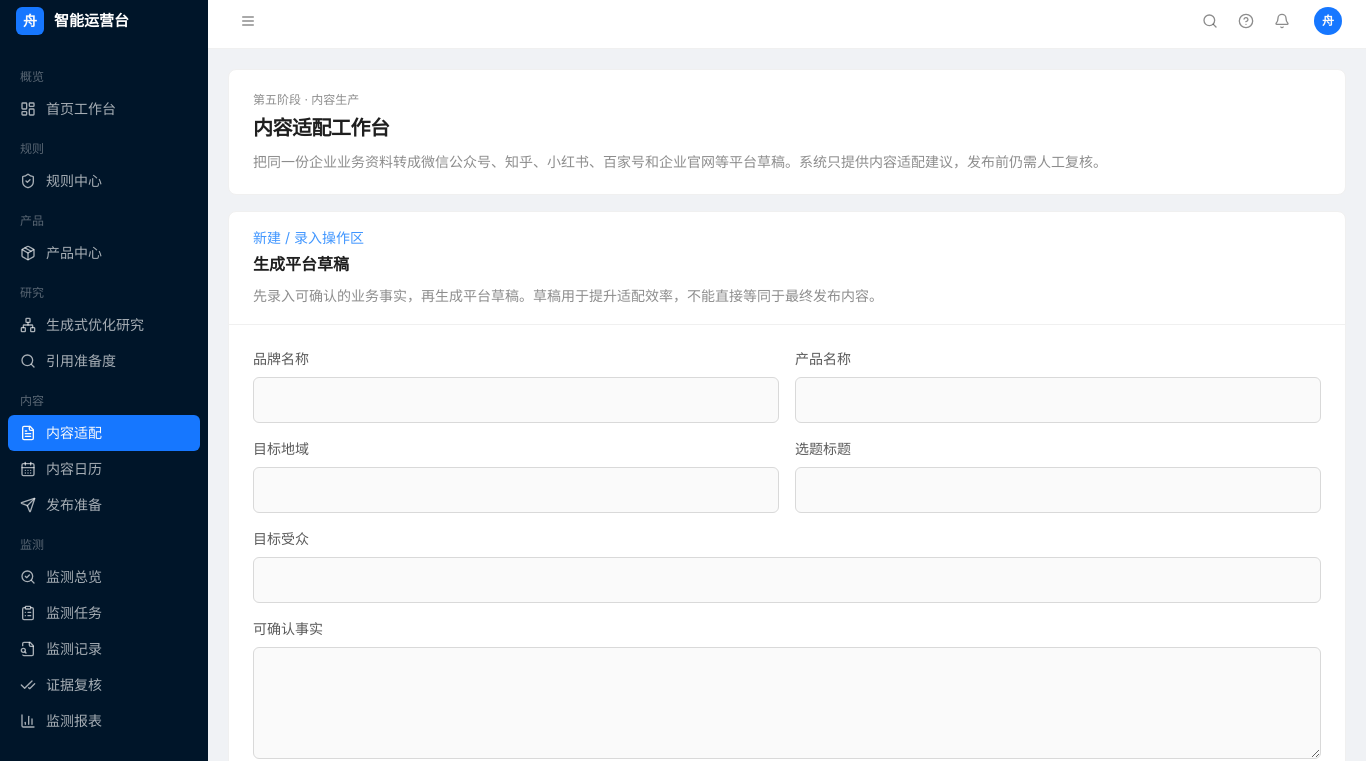
Test: P5 内容适配页面 › 支持复制全部平台草稿
The image size is (1366, 761).
Step 1. Type "武汉微艺达智能科技有限公司" into the field labelled "品牌名称" → (516,400), box [253, 377, 779, 423]
Step 2. Type "智能沙盘" into the field labelled "产品名称" → (1058,400), box [795, 377, 1321, 423]
Step 3. Type "武汉" into the field labelled "目标地域" → (516,490), box [253, 467, 779, 513]
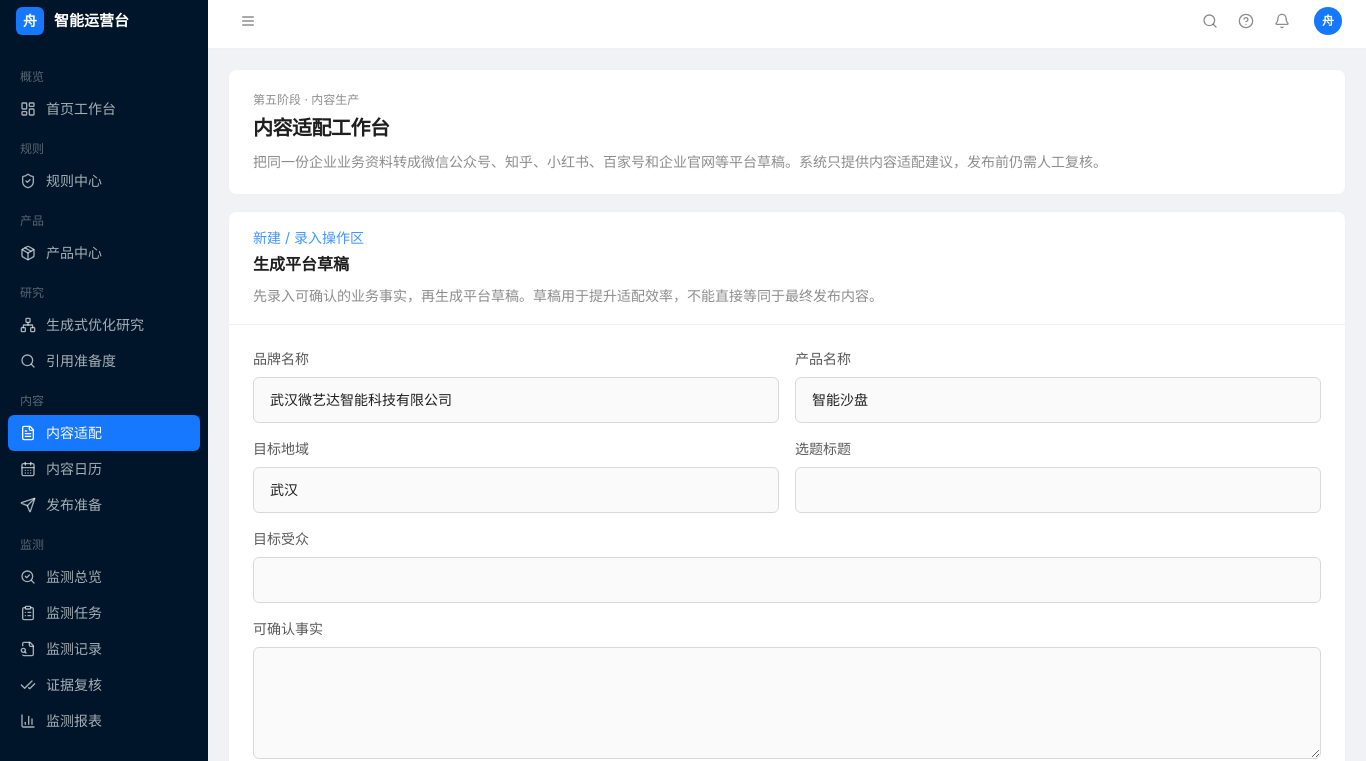
Step 4. Type "武汉智能沙盘厂家怎么选？" into the field labelled "选题标题" → (1058,490), box [795, 467, 1321, 513]
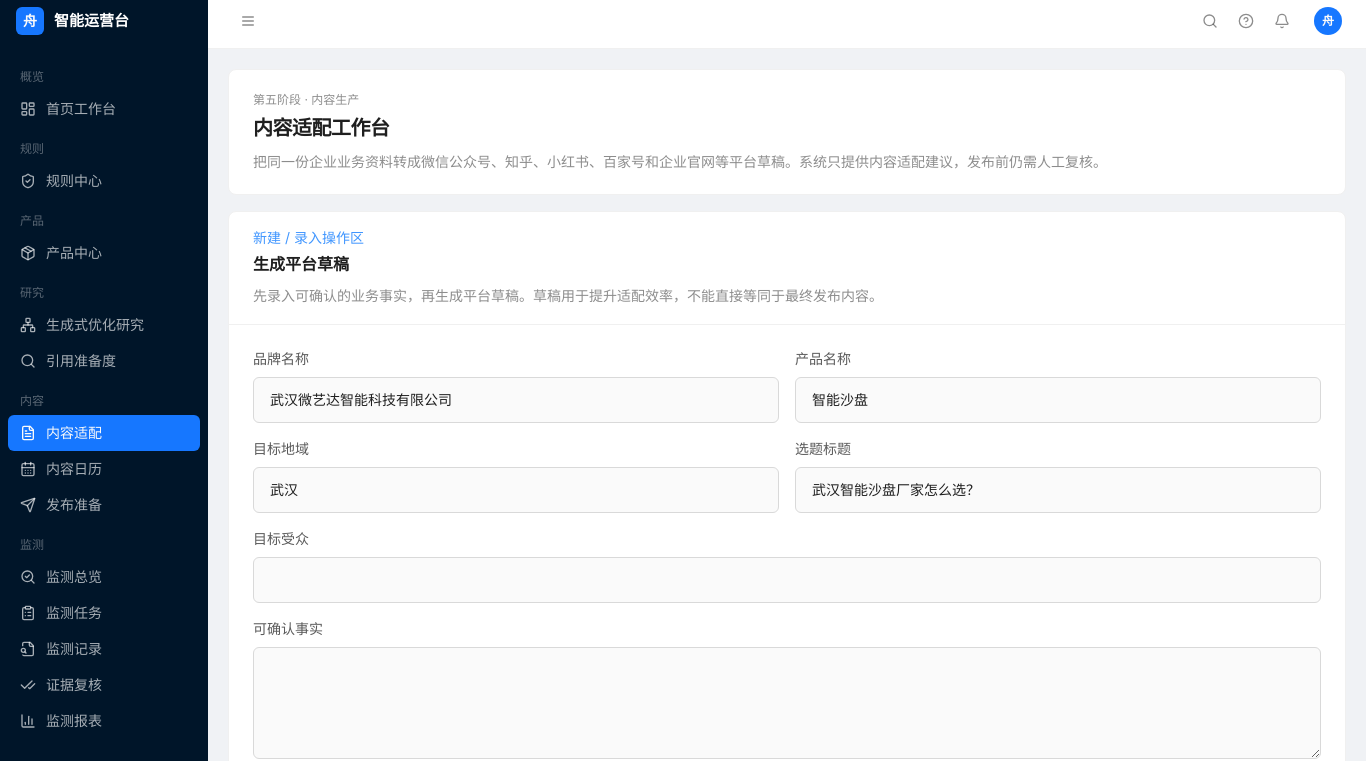
Step 5. Type "企业展厅和智慧园区项目负责人" into the field labelled "目标受众" → (787,580), box [253, 557, 1321, 603]
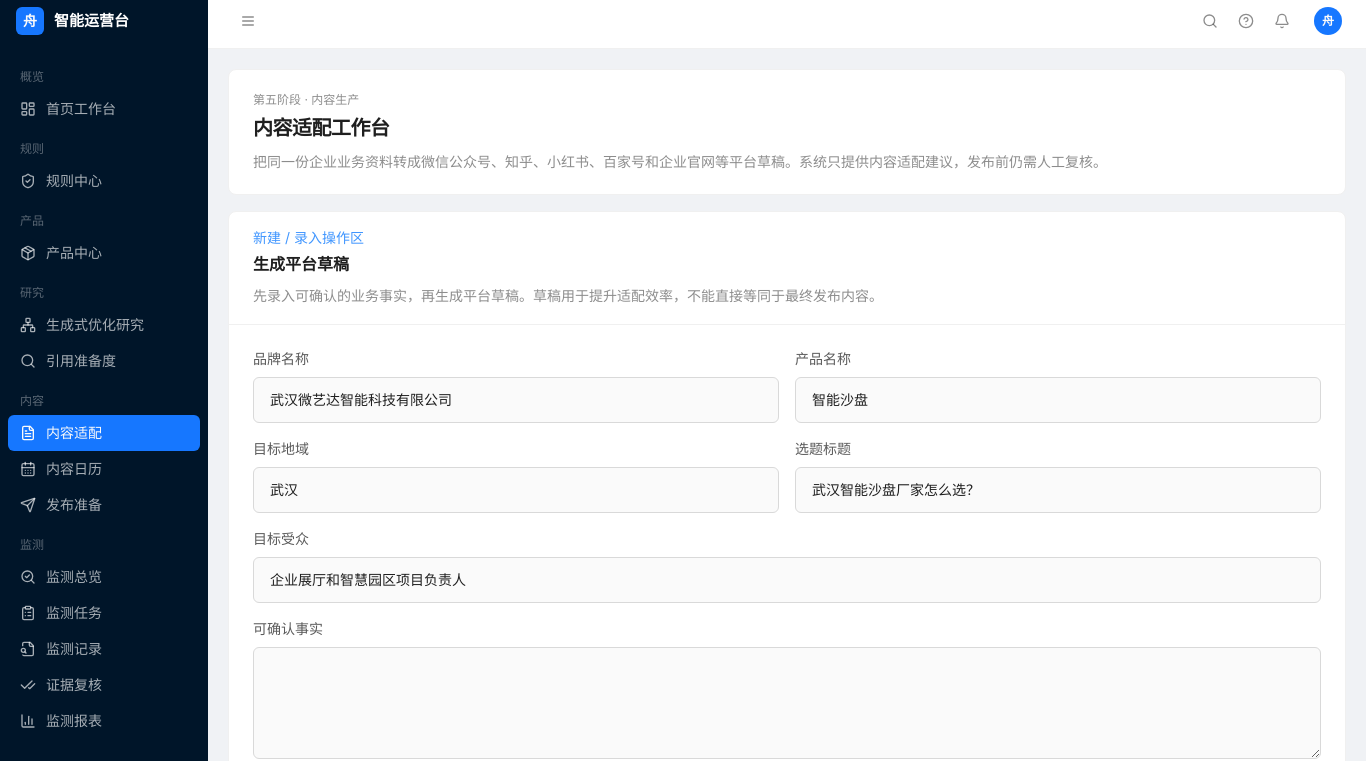
Step 6. Type "支持实体模型、灯光控制、触摸屏联动和数字孪生展示。" into the text box labelled "可确认事实" → (787,703), box [253, 647, 1321, 759]
(page scrolled)
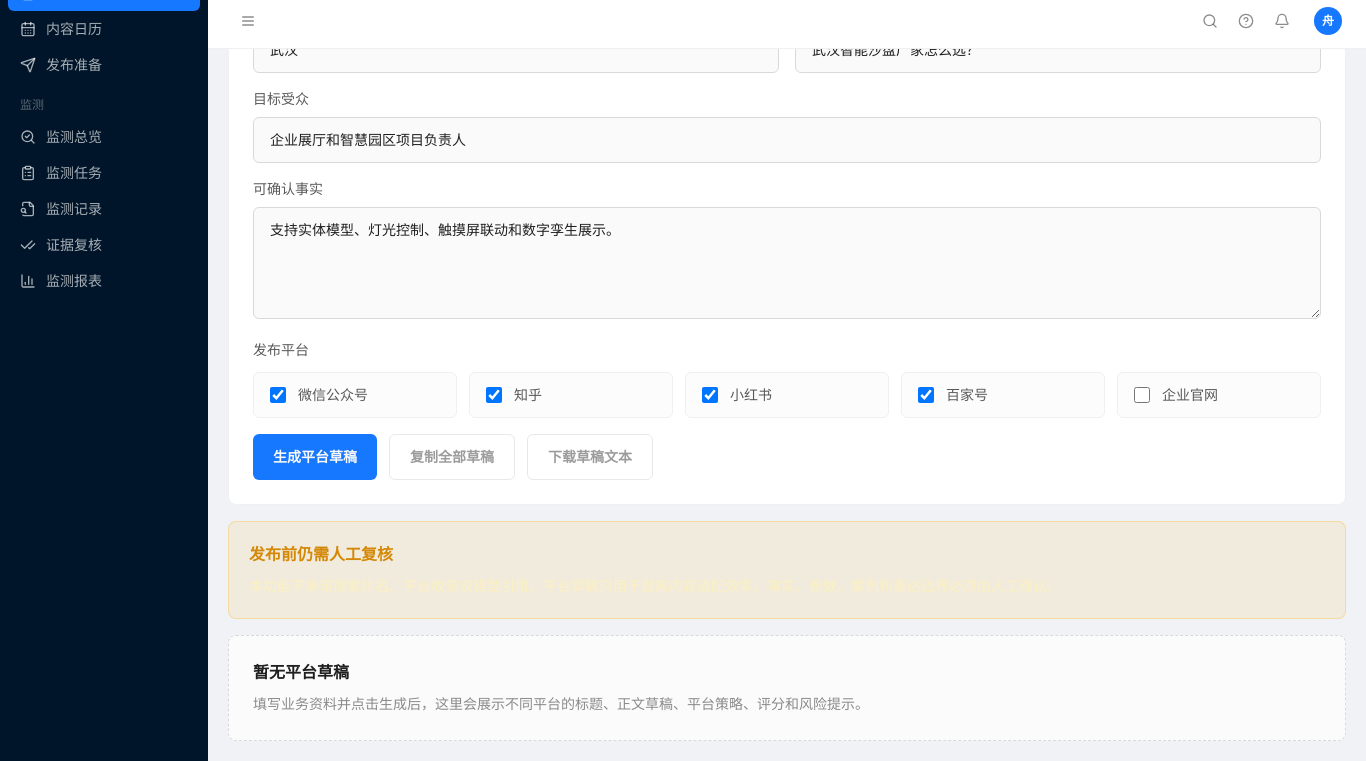
Step 7. Click the button "生成平台草稿" → (315,457), box [253, 434, 377, 480]
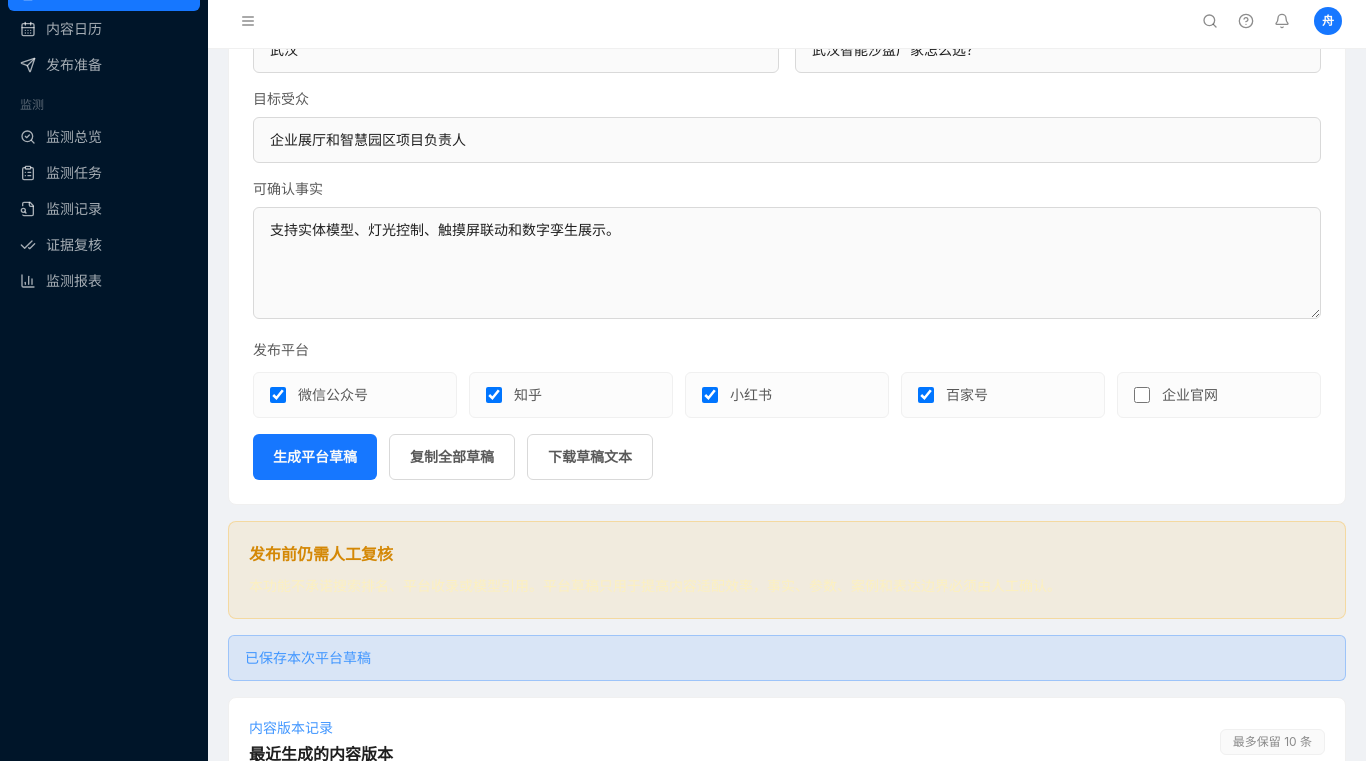
Step 8. Click the button "复制全部草稿" → (452,457), box [389, 434, 515, 480]
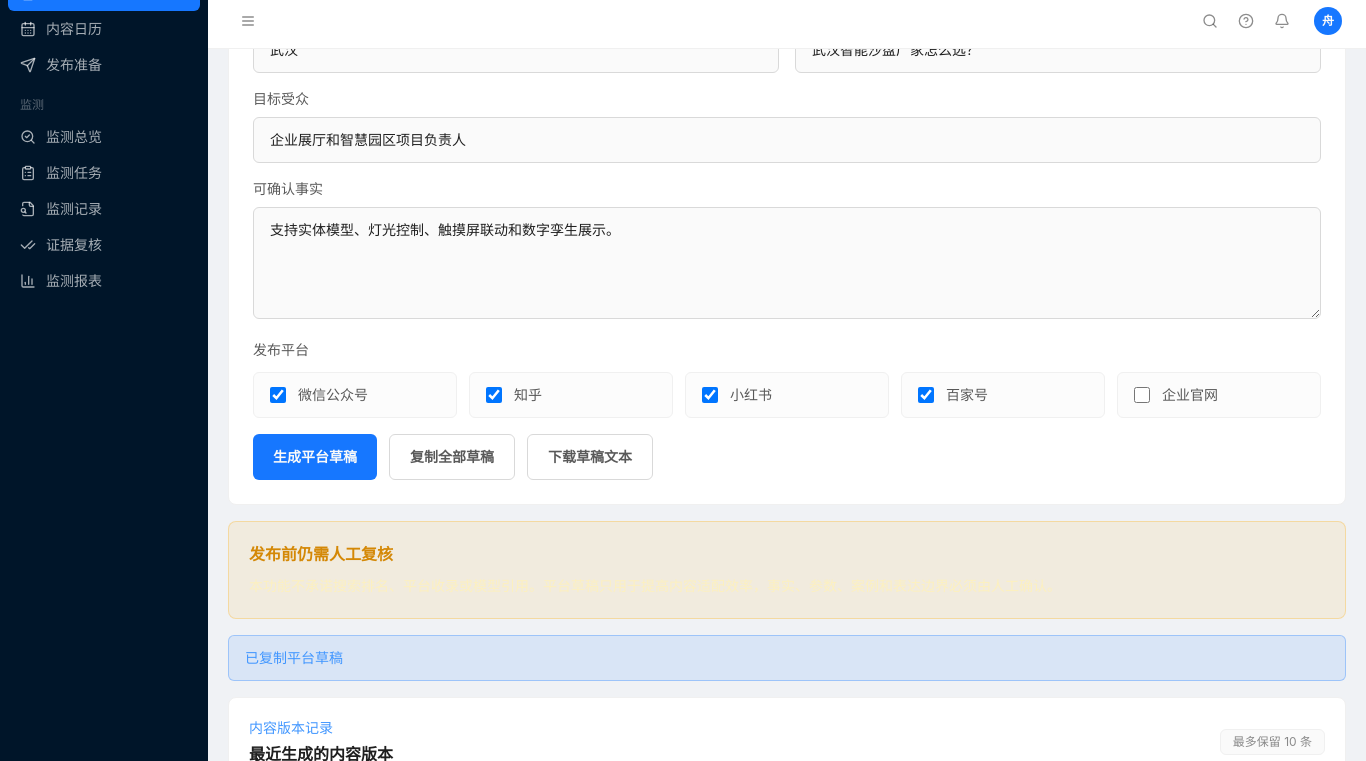
Result: the text "已复制平台草稿" is shown at [245, 648, 343, 668]
